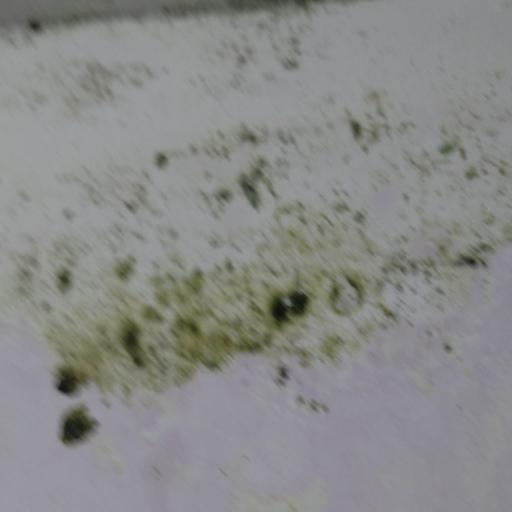algae: (28, 138, 470, 445)
